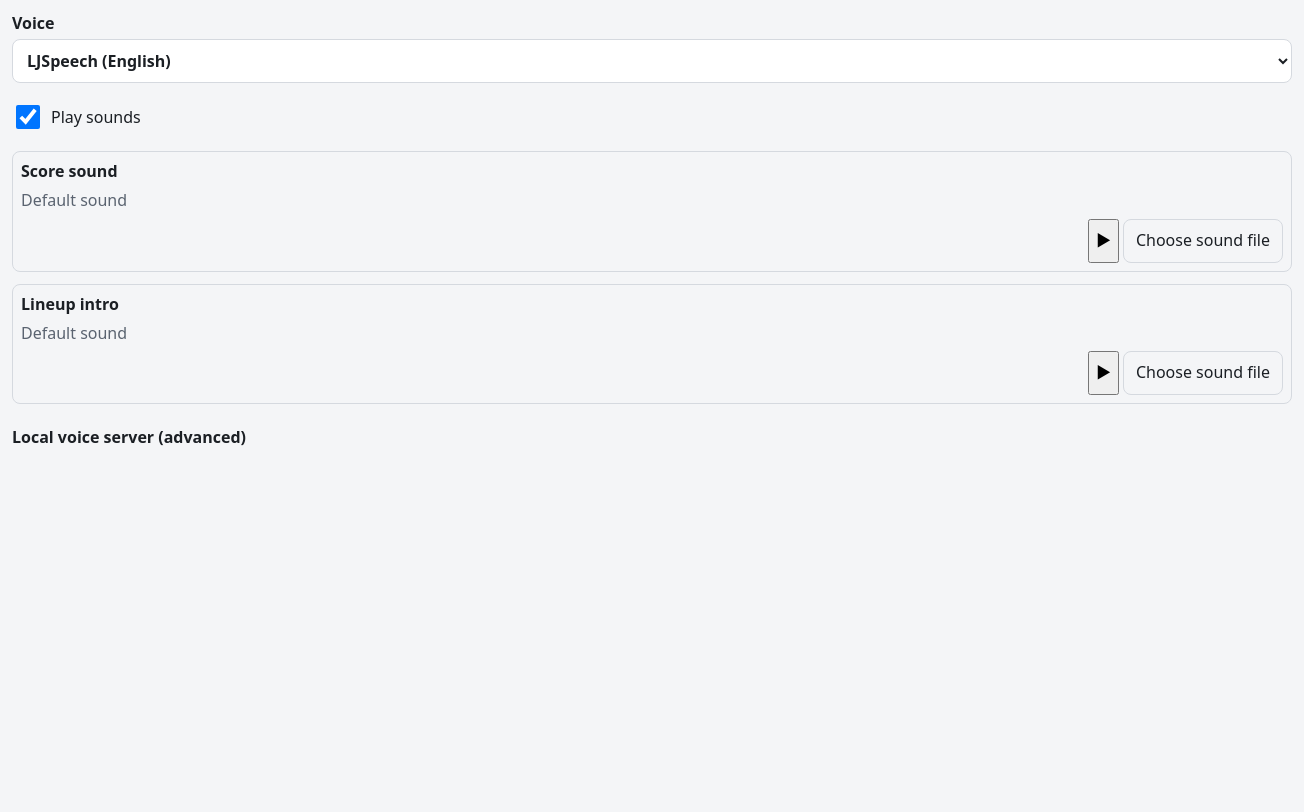
Test: connect success lists the voices of the current language in an "On this computer" group
This screenshot has width=1304, height=812.
Later steps or results of the test are not shown.
Step 1. Click the heading "Local voice server (advanced)" → (129, 437), box [12,426,246,448]
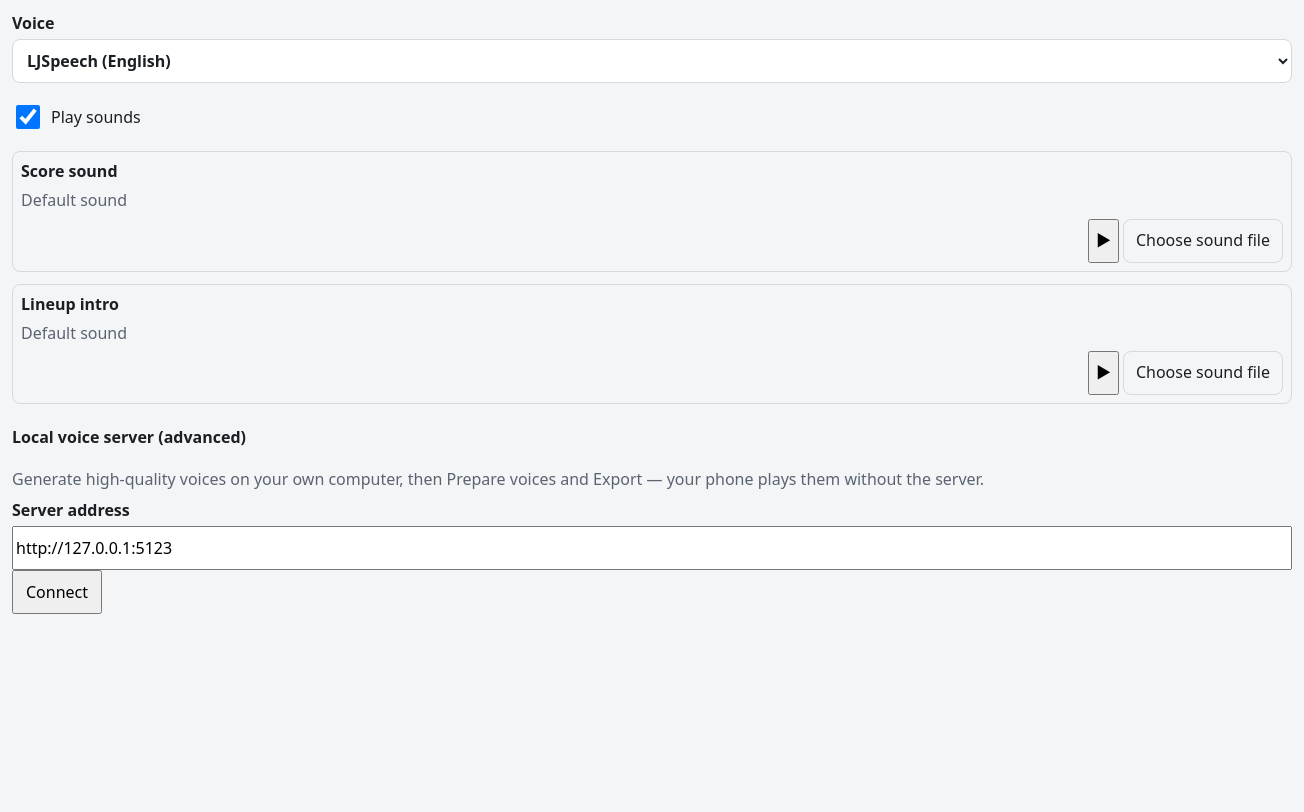
Step 2. Click the button "Connect" → (57, 592), box [12,570,102,614]
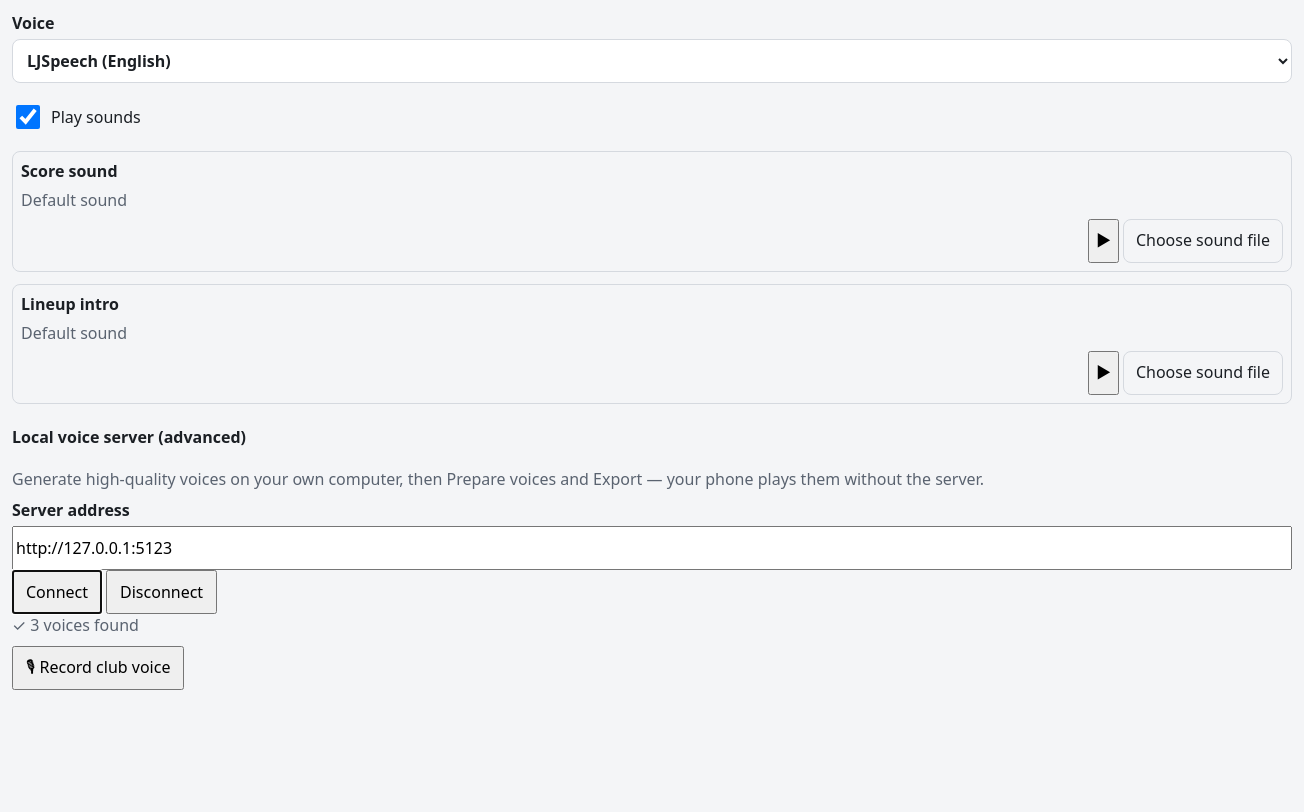
expect the text "✓ 3 voices found" is shown: met, box [12,614,139,636]
